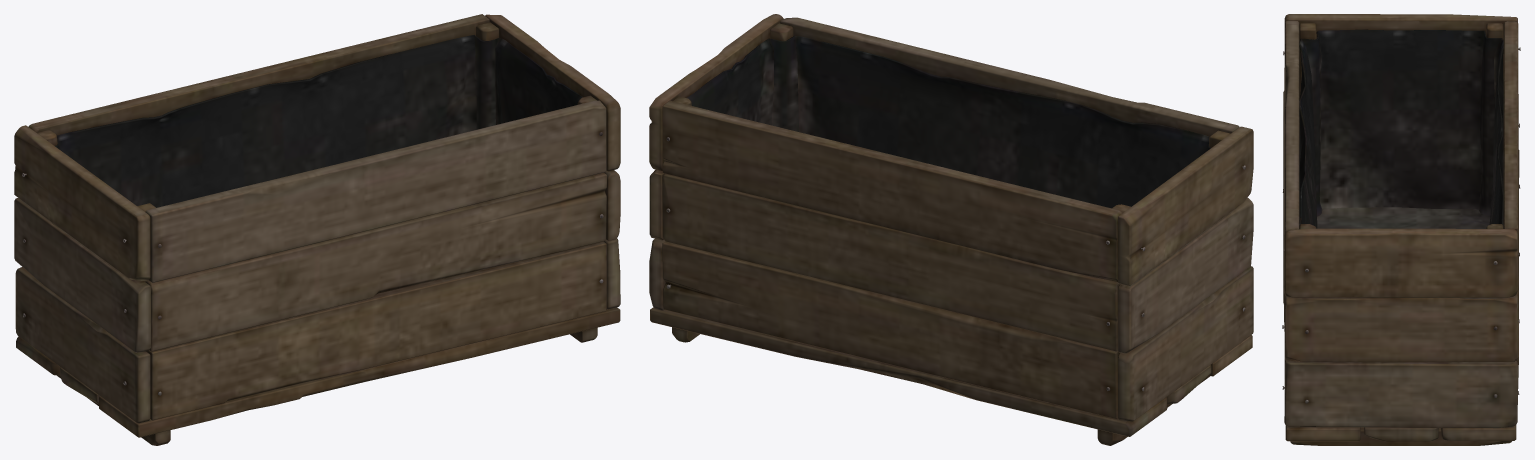
The model's file is planter_box_01.glb.
3 views of the same model, side by side, from view 1: azimuth 30°, elevation 25°; view 2: azimuth 150°, elevation 25°; view 3: azimuth 270°, elevation 25° (orthographic). The views are drawn at different scales.
Visible parts, largest first — view 1: planter_box_01; view 2: planter_box_01; view 3: planter_box_01.
Boxes of the visible parts, x1,y1,x2,y2 form: planter_box_01: (14,14,620,445); planter_box_01: (649,14,1253,445); planter_box_01: (1282,14,1520,445).
Size of the model in its own units: 0.9126 by 0.425 by 0.4137.
1 material, 1 textured.
